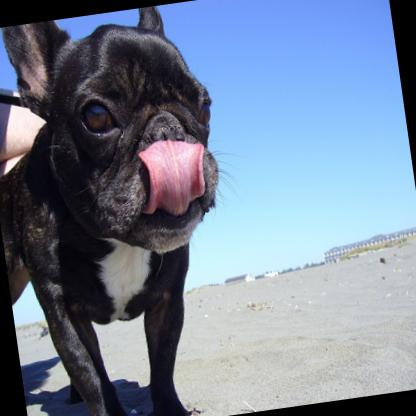French_bulldog: (0, 0, 273, 416)
